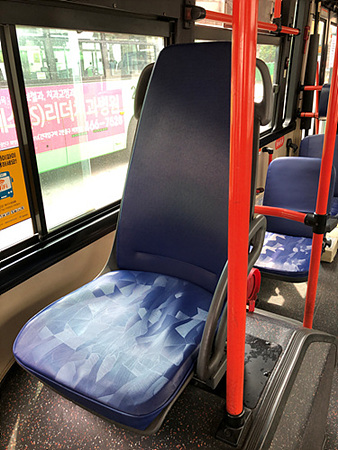seat: (18, 47, 230, 418)
